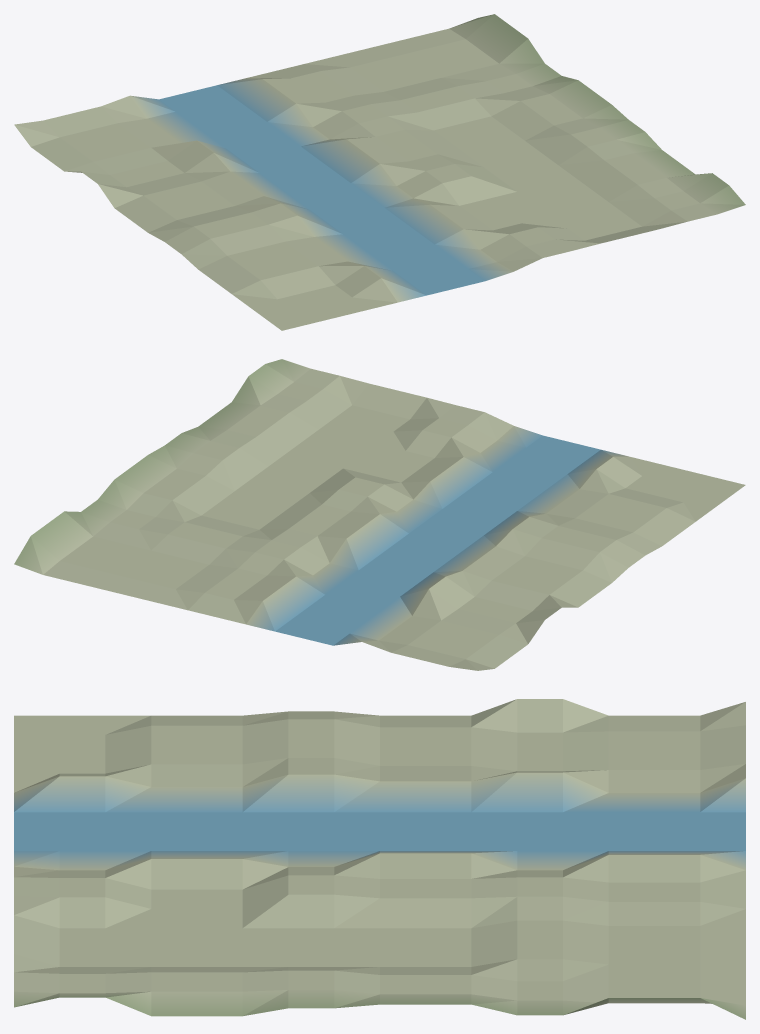
3 views of the same model, one above another, from view 1: azimuth 30°, elevation 25°; view 2: azimuth 150°, elevation 25°; view 3: azimuth 270°, elevation 25° (orthographic). The views are drawn at different scales.
Size of the model in its own units: 32 by 1.32 by 32.
